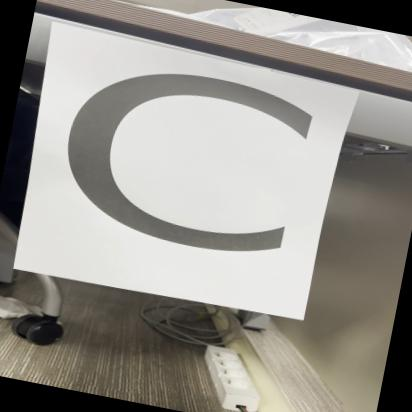seat: (13, 25, 351, 320)
